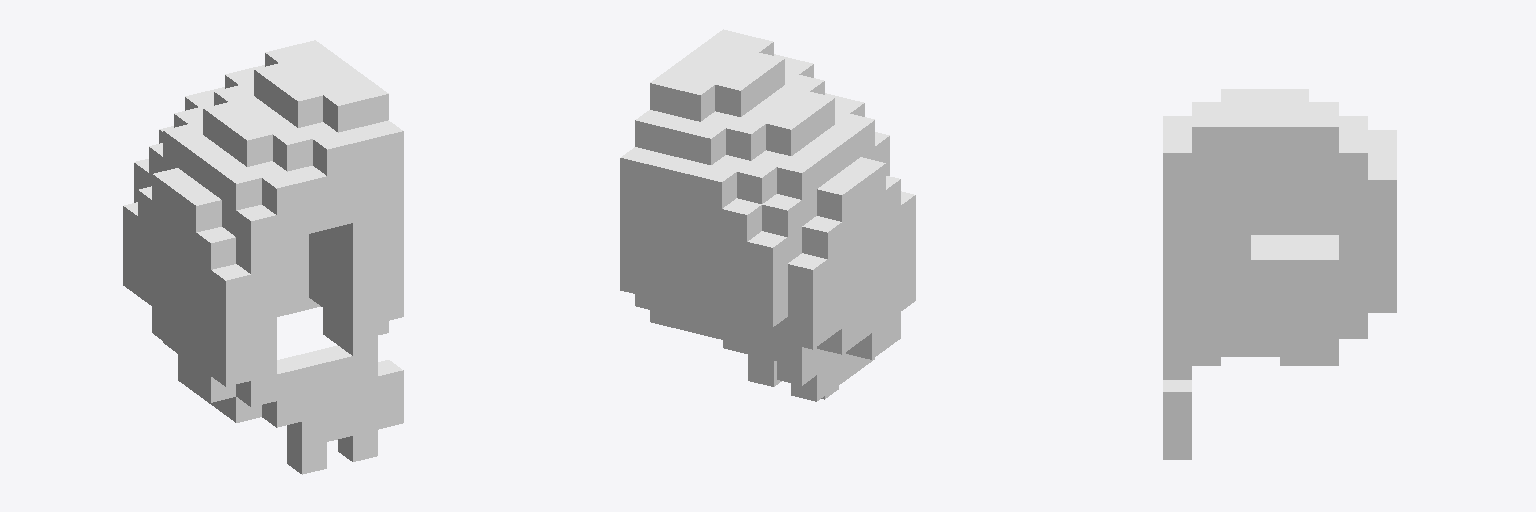
File: Skelton_Head_Explodes_Left.obj
The picture shows the model from 3 angles: view 1: azimuth 30°, elevation 25°; view 2: azimuth 150°, elevation 25°; view 3: azimuth 270°, elevation 25°; orthographic projection.
Bounding box in the file's own units: 7 × 13 × 8.